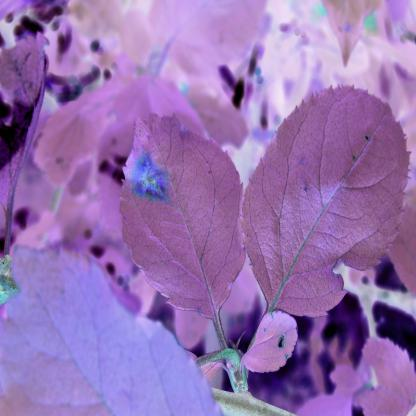apple scab leaf: (120, 110, 256, 329)
